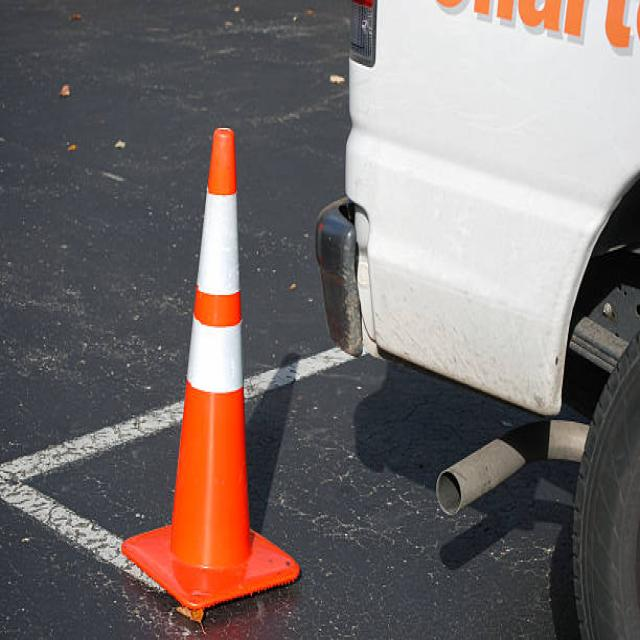Traffic Cone: (108, 106, 314, 640)
